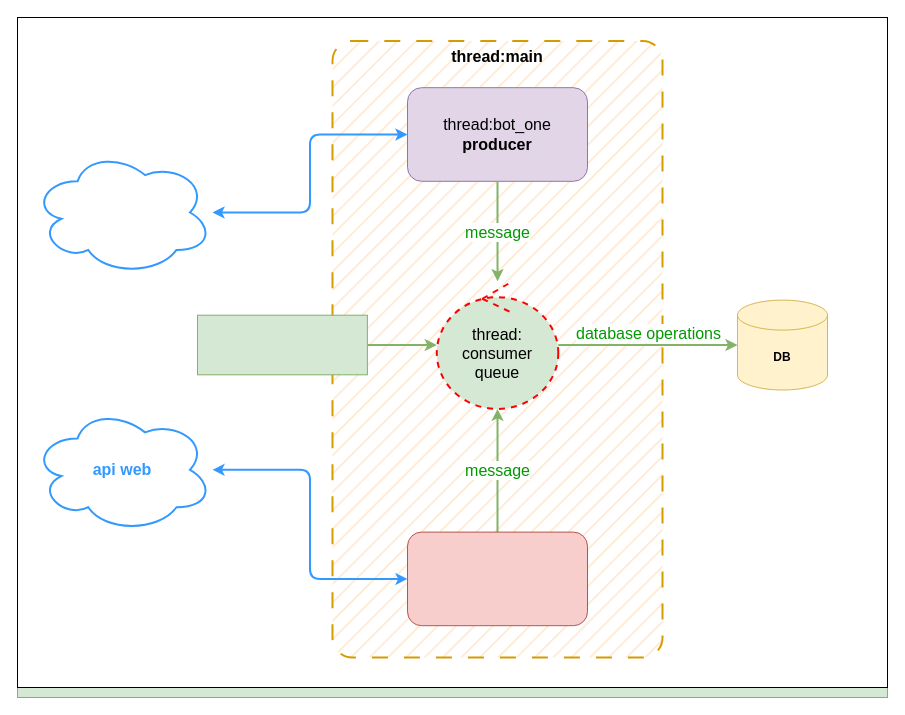
Image size: 905x715. Some labels were removed from this diagram. Each missing label, with the centre of its shape:
"File Server" goes at point (122, 212).
"Receive and wait for a next message" goes at point (281, 344).
"thread:bot_two producer" goes at point (497, 578).
